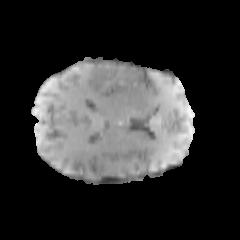glioma: (74, 63, 154, 100)
